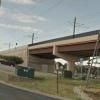Bridge: (17, 16, 94, 64)
